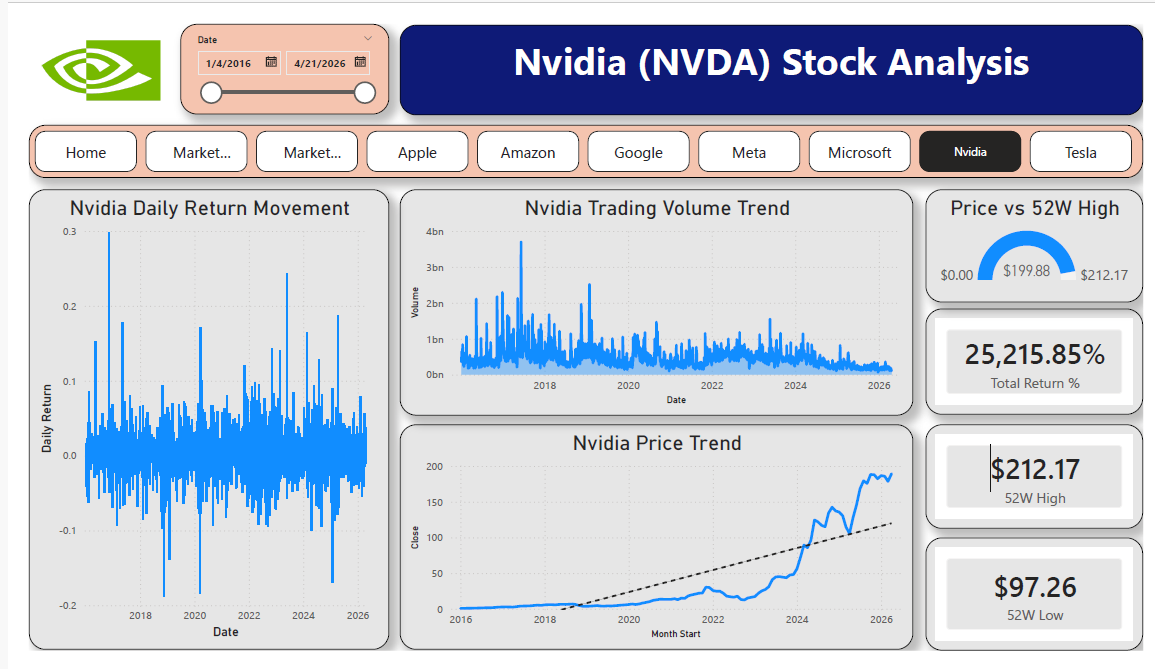

The dashboard page shown, as its layout file describes it:
{"tool":"powerbi","page":{"name":"Nvidia","canvas":[1280,720],"ordinal":8},"visuals":[{"type":"image","box":[14.9,1.2,136.3,104.1],"z":0},{"type":"textbox","box":[426.2,1.2,853.8,103.8],"z":1000},{"type":"slicer","fields":{"Values":["DateTable.Date"]},"box":[173.8,0,240,103.8],"z":2000},{"type":"pageNavigator","box":[0,115.7,1280,61.4],"z":3000},{"type":"cardVisual","fields":{"Data":["mag7_powerbi_ready.Total Return %"]},"box":[1030,327.1,250,121.4],"z":5000},{"type":"cardVisual","fields":{"Data":["mag7_powerbi_ready.52W High"]},"box":[1030,460,250,120],"z":6000},{"type":"cardVisual","fields":{"Data":["mag7_powerbi_ready.52W Low"]},"box":[1030,590,250,130],"z":7000},{"type":"lineChart","title":"Nvidia Price Trend ","fields":{"Y":["Avg(mag7_powerbi_ready.Close)"],"Category":["mag7_powerbi_ready.Month Start"]},"box":[426.2,460,590,258.8],"z":8000},{"type":"areaChart","title":"Nvidia Trading Volume Trend","fields":{"Y":["Avg(mag7_powerbi_ready.Volume)"],"Category":["DateTable.Date"]},"box":[425.7,190,590,260],"z":9000},{"type":"clusteredColumnChart","title":"Nvidia Daily Return Movement","fields":{"Y":["Avg(mag7_powerbi_ready.Daily_Return)"],"Category":["DateTable.Date"]},"box":[0,190,413.8,528.8],"z":10000},{"type":"gauge","title":"Price vs 52W High","fields":{"MaxValue":["mag7_powerbi_ready.52W High"],"Y":["mag7_powerbi_ready.Latest Close"]},"box":[1029.7,189.6,250.3,130.1],"z":10001}]}

Visuals, with their boxes in screenshot pixels (x1, y1, x2, y2), scaled from the page's 1280x720 canvas onto the 1155x669 screenshot:
image: detection(13, 1, 136, 98)
textbox: detection(385, 1, 1154, 98)
slicer - DateTable.Date: detection(157, 0, 373, 96)
pageNavigator: detection(0, 108, 1154, 165)
cardVisual - mag7_powerbi_ready.Total Return %: detection(929, 304, 1154, 417)
cardVisual - mag7_powerbi_ready.52W High: detection(929, 427, 1154, 539)
cardVisual - mag7_powerbi_ready.52W Low: detection(929, 548, 1154, 668)
"Nvidia Price Trend " lineChart: detection(385, 427, 917, 668)
"Nvidia Trading Volume Trend" areaChart: detection(384, 177, 917, 418)
"Nvidia Daily Return Movement" clusteredColumnChart: detection(0, 177, 373, 668)
"Price vs 52W High" gauge: detection(929, 176, 1154, 297)
